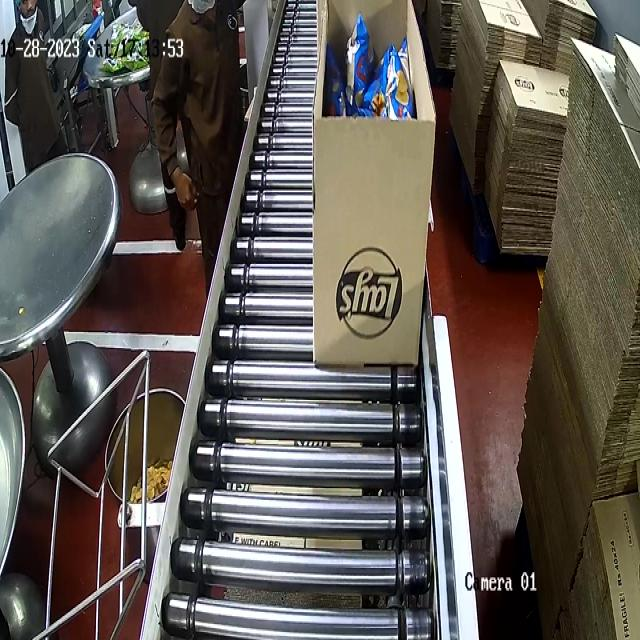PAPRIKA: (329, 15, 417, 123)
